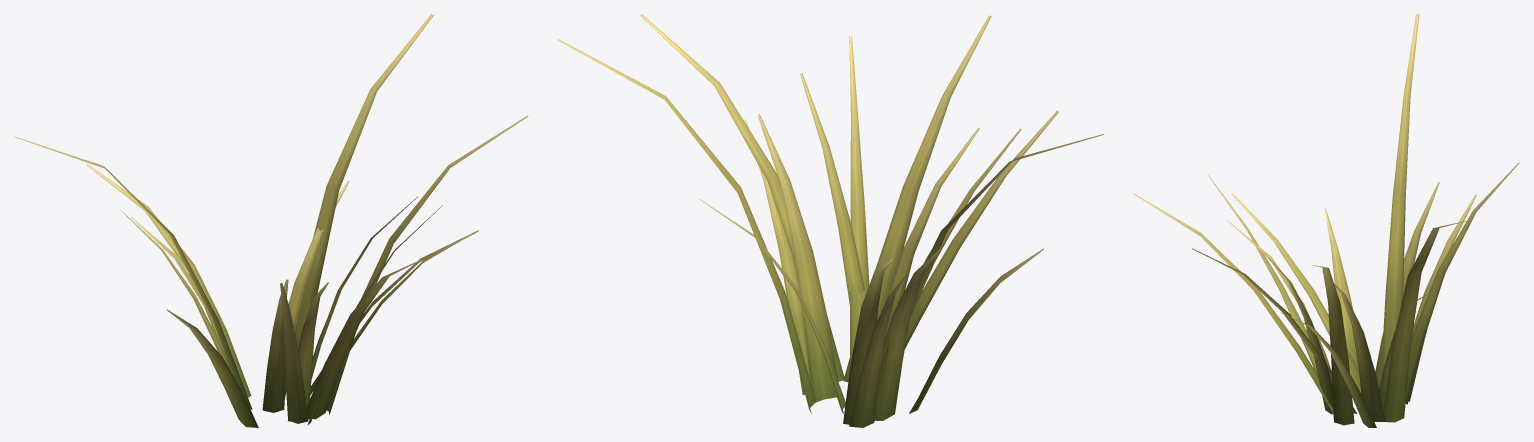
Rendered from BeachGrass_Clump_01.fbx.
The picture shows the model from 3 angles, left to right: view 1: azimuth 30°, elevation 25°; view 2: azimuth 150°, elevation 25°; view 3: azimuth 270°, elevation 25°; orthographic projection. The views are drawn at different scales.
Parts seen in each view (by area): view 1: BeachGrass_Clump_01; view 2: BeachGrass_Clump_01; view 3: BeachGrass_Clump_01.
Boxes of the visible parts, left/top/right/bottom form: BeachGrass_Clump_01: left=14, top=14, right=528, bottom=427; BeachGrass_Clump_01: left=557, top=14, right=1103, bottom=427; BeachGrass_Clump_01: left=1133, top=14, right=1519, bottom=427.
Size of the model in its own units: 1.42 by 0.9263 by 1.13.
Materials: 1 (1 with a texture image).
